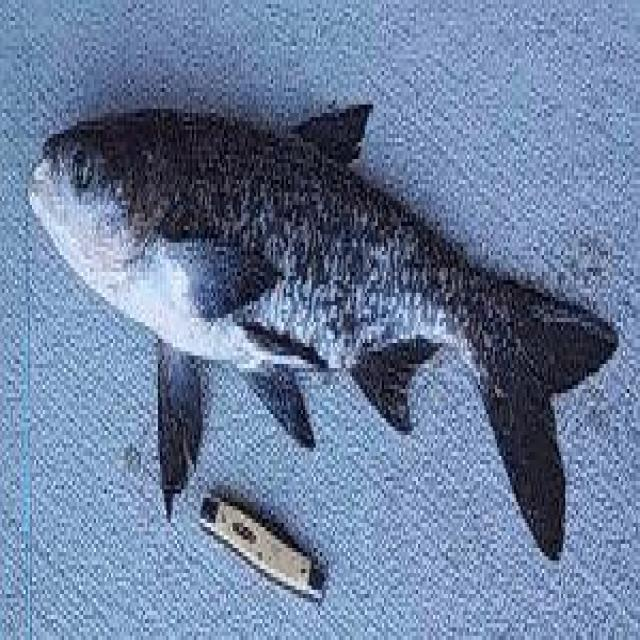Big-Head-Carp: (23, 44, 636, 592), (23, 44, 608, 268), (609, 259, 614, 268)
